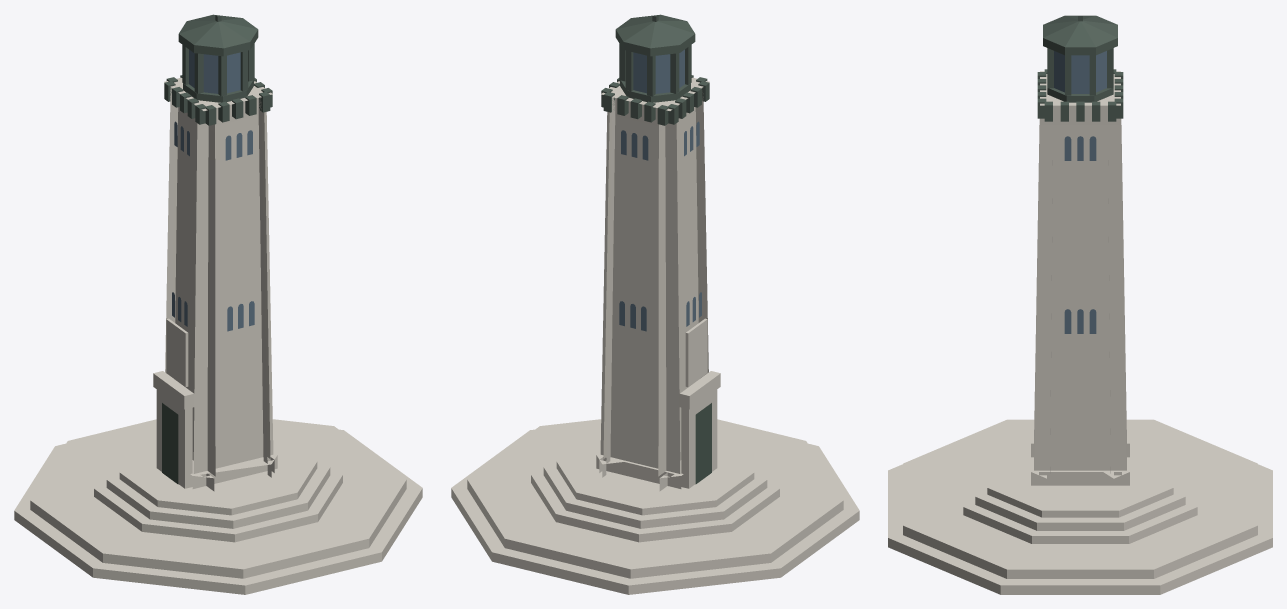
Rendered from det-livingstone-lighthouse.glb.
3 views of the same model, side by side, from view 1: azimuth 30°, elevation 25°; view 2: azimuth 150°, elevation 25°; view 3: azimuth 270°, elevation 25° (orthographic).
Parts seen in each view (by area): view 1: William Livingstone Memorial Lighthouse; view 2: William Livingstone Memorial Lighthouse; view 3: William Livingstone Memorial Lighthouse.
Boxes of the visible parts, x1,y1,x2,y2 form: William Livingstone Memorial Lighthouse: (14,14,422,594); William Livingstone Memorial Lighthouse: (451,14,859,594); William Livingstone Memorial Lighthouse: (888,15,1272,594).
Size of the model in its own units: 12.8 by 18.3 by 12.8.
